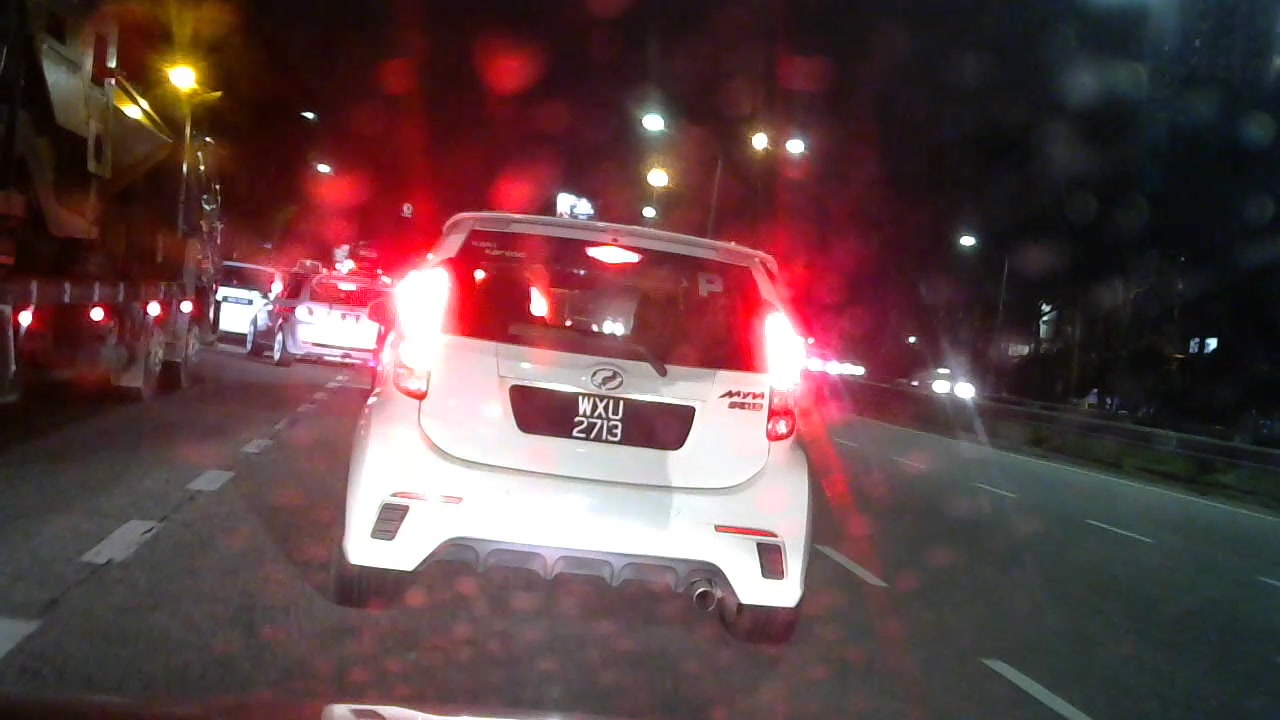Car: (360, 197, 812, 639), (249, 267, 381, 388), (216, 252, 282, 353), (917, 365, 987, 403), (806, 350, 874, 378)
